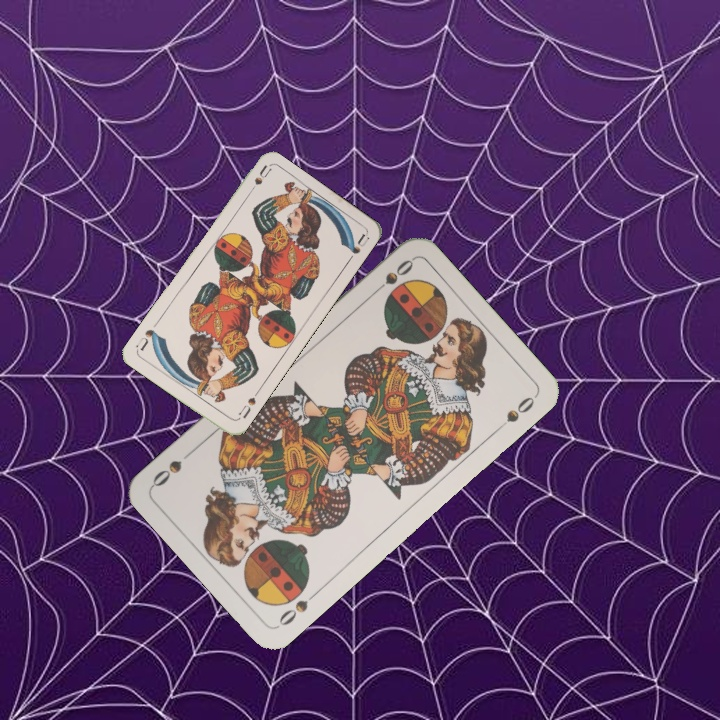SO: (367, 255, 417, 299), (274, 586, 322, 629)
SU: (243, 162, 273, 199), (234, 387, 261, 421)
